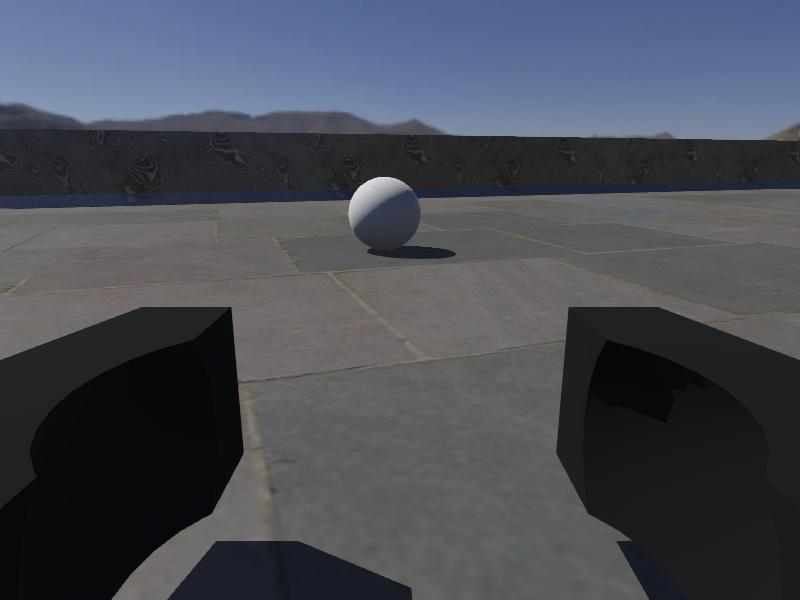white ball: (346, 175, 422, 253)
